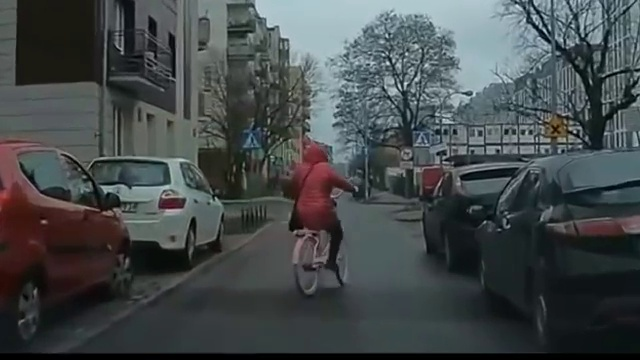cyclist_back: (289, 141, 353, 292)
